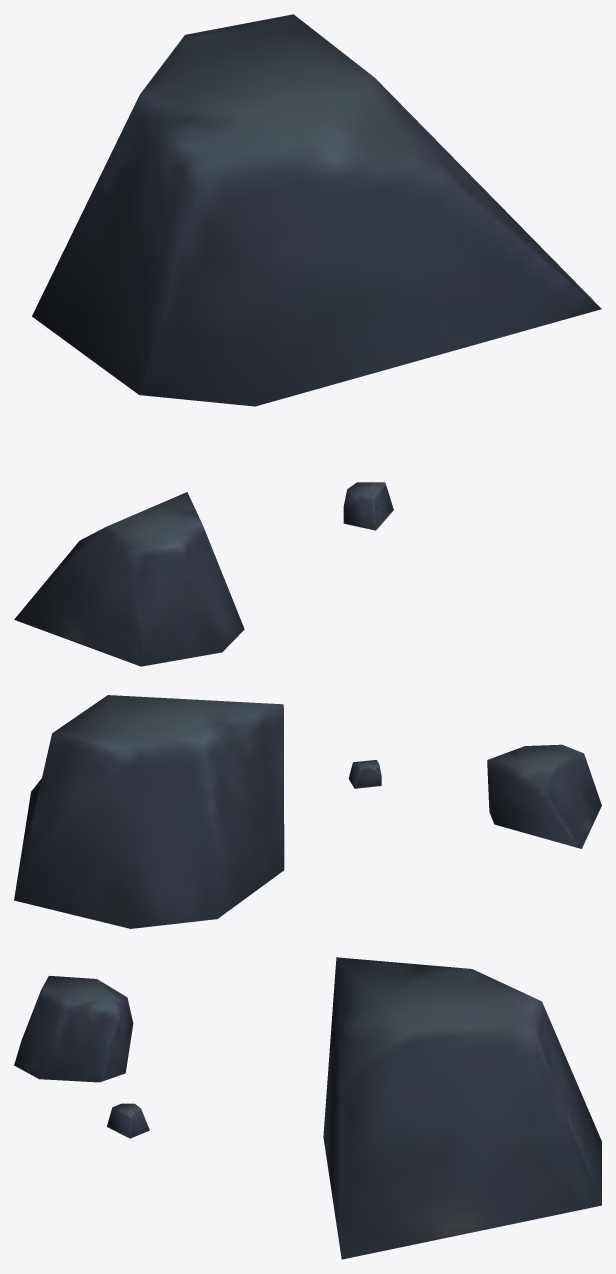
Rendered from Area_05_16.fbx.
3 views of the same model, one above another, from view 1: azimuth 30°, elevation 25°; view 2: azimuth 150°, elevation 25°; view 3: azimuth 270°, elevation 25° (orthographic). The views are drawn at different scales.
Parts seen in each view (by area): view 1: Area_05_16; view 2: Area_05_16; view 3: Area_05_16.
Part boxes in pixels (x1,y1,x2,y2): Area_05_16: (14, 14, 601, 666); Area_05_16: (14, 695, 601, 928); Area_05_16: (14, 957, 601, 1259).
Size of the model in its own units: 1261 by 422 by 1247.
